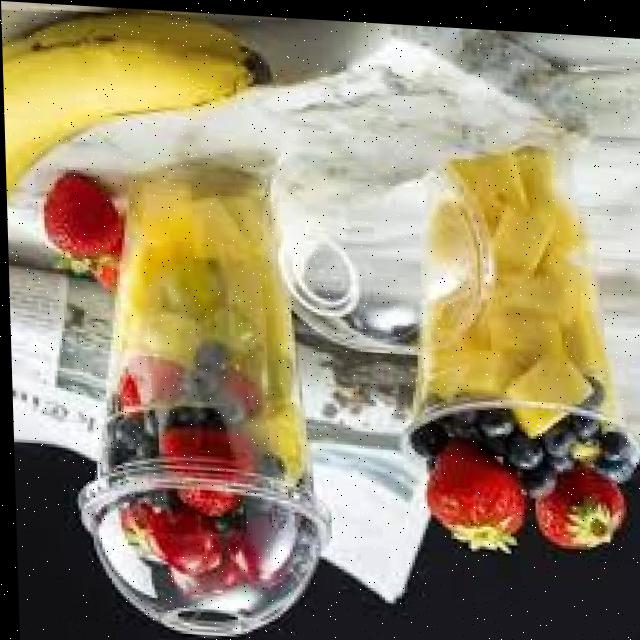cup: (97, 166, 314, 515), (408, 141, 624, 424)
